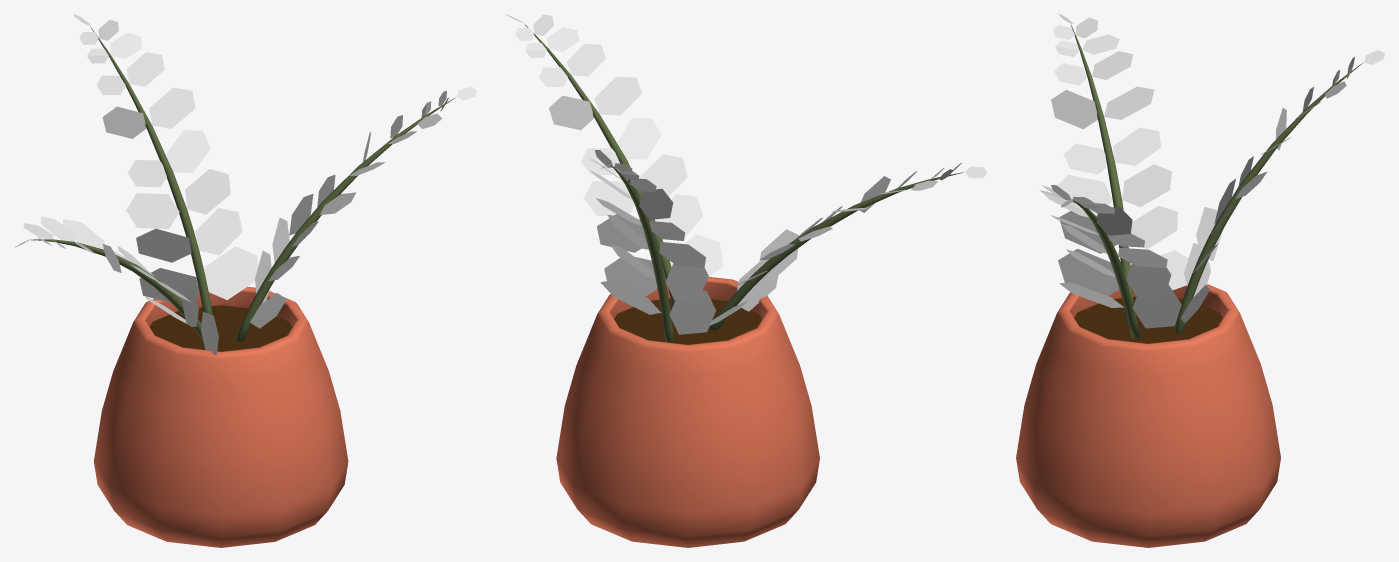
The model's file is Plant_pot.fbx.
3 renders of one model, left to right at view 1: azimuth 30°, elevation 25°; view 2: azimuth 150°, elevation 25°; view 3: azimuth 270°, elevation 25°, orthographic. The views are drawn at different scales.
Visible parts, largest first — view 1: pot, Leaf.026, Leaf.043, Leaf.003, soil; view 2: pot, Leaf.043, Leaf.026, Leaf.003, soil; view 3: pot, Leaf.003, Leaf.043, Leaf.026, soil.
Part boxes in pixels (bbox=[...]): pot: bbox=[94, 287, 348, 547]; Leaf.026: bbox=[74, 14, 257, 314]; Leaf.043: bbox=[235, 86, 476, 341]; Leaf.003: bbox=[15, 216, 218, 355]; soil: bbox=[149, 305, 292, 351]; pot: bbox=[556, 277, 819, 547]; Leaf.043: bbox=[505, 14, 723, 305]; Leaf.026: bbox=[588, 150, 716, 342]; Leaf.003: bbox=[709, 163, 987, 330]; soil: bbox=[614, 298, 762, 344]; pot: bbox=[1016, 284, 1280, 547]; Leaf.003: bbox=[1051, 14, 1188, 323]; Leaf.043: bbox=[1039, 185, 1181, 338]; Leaf.026: bbox=[1174, 50, 1384, 333]; soil: bbox=[1074, 296, 1222, 343].
Bounding box in the file's own units: 1.23 × 1.07 × 0.8175.
